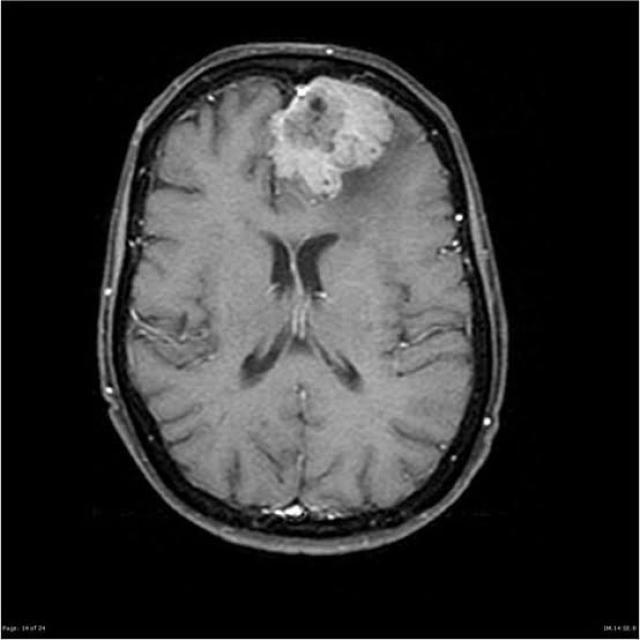meningioma: (268, 76, 394, 201)
